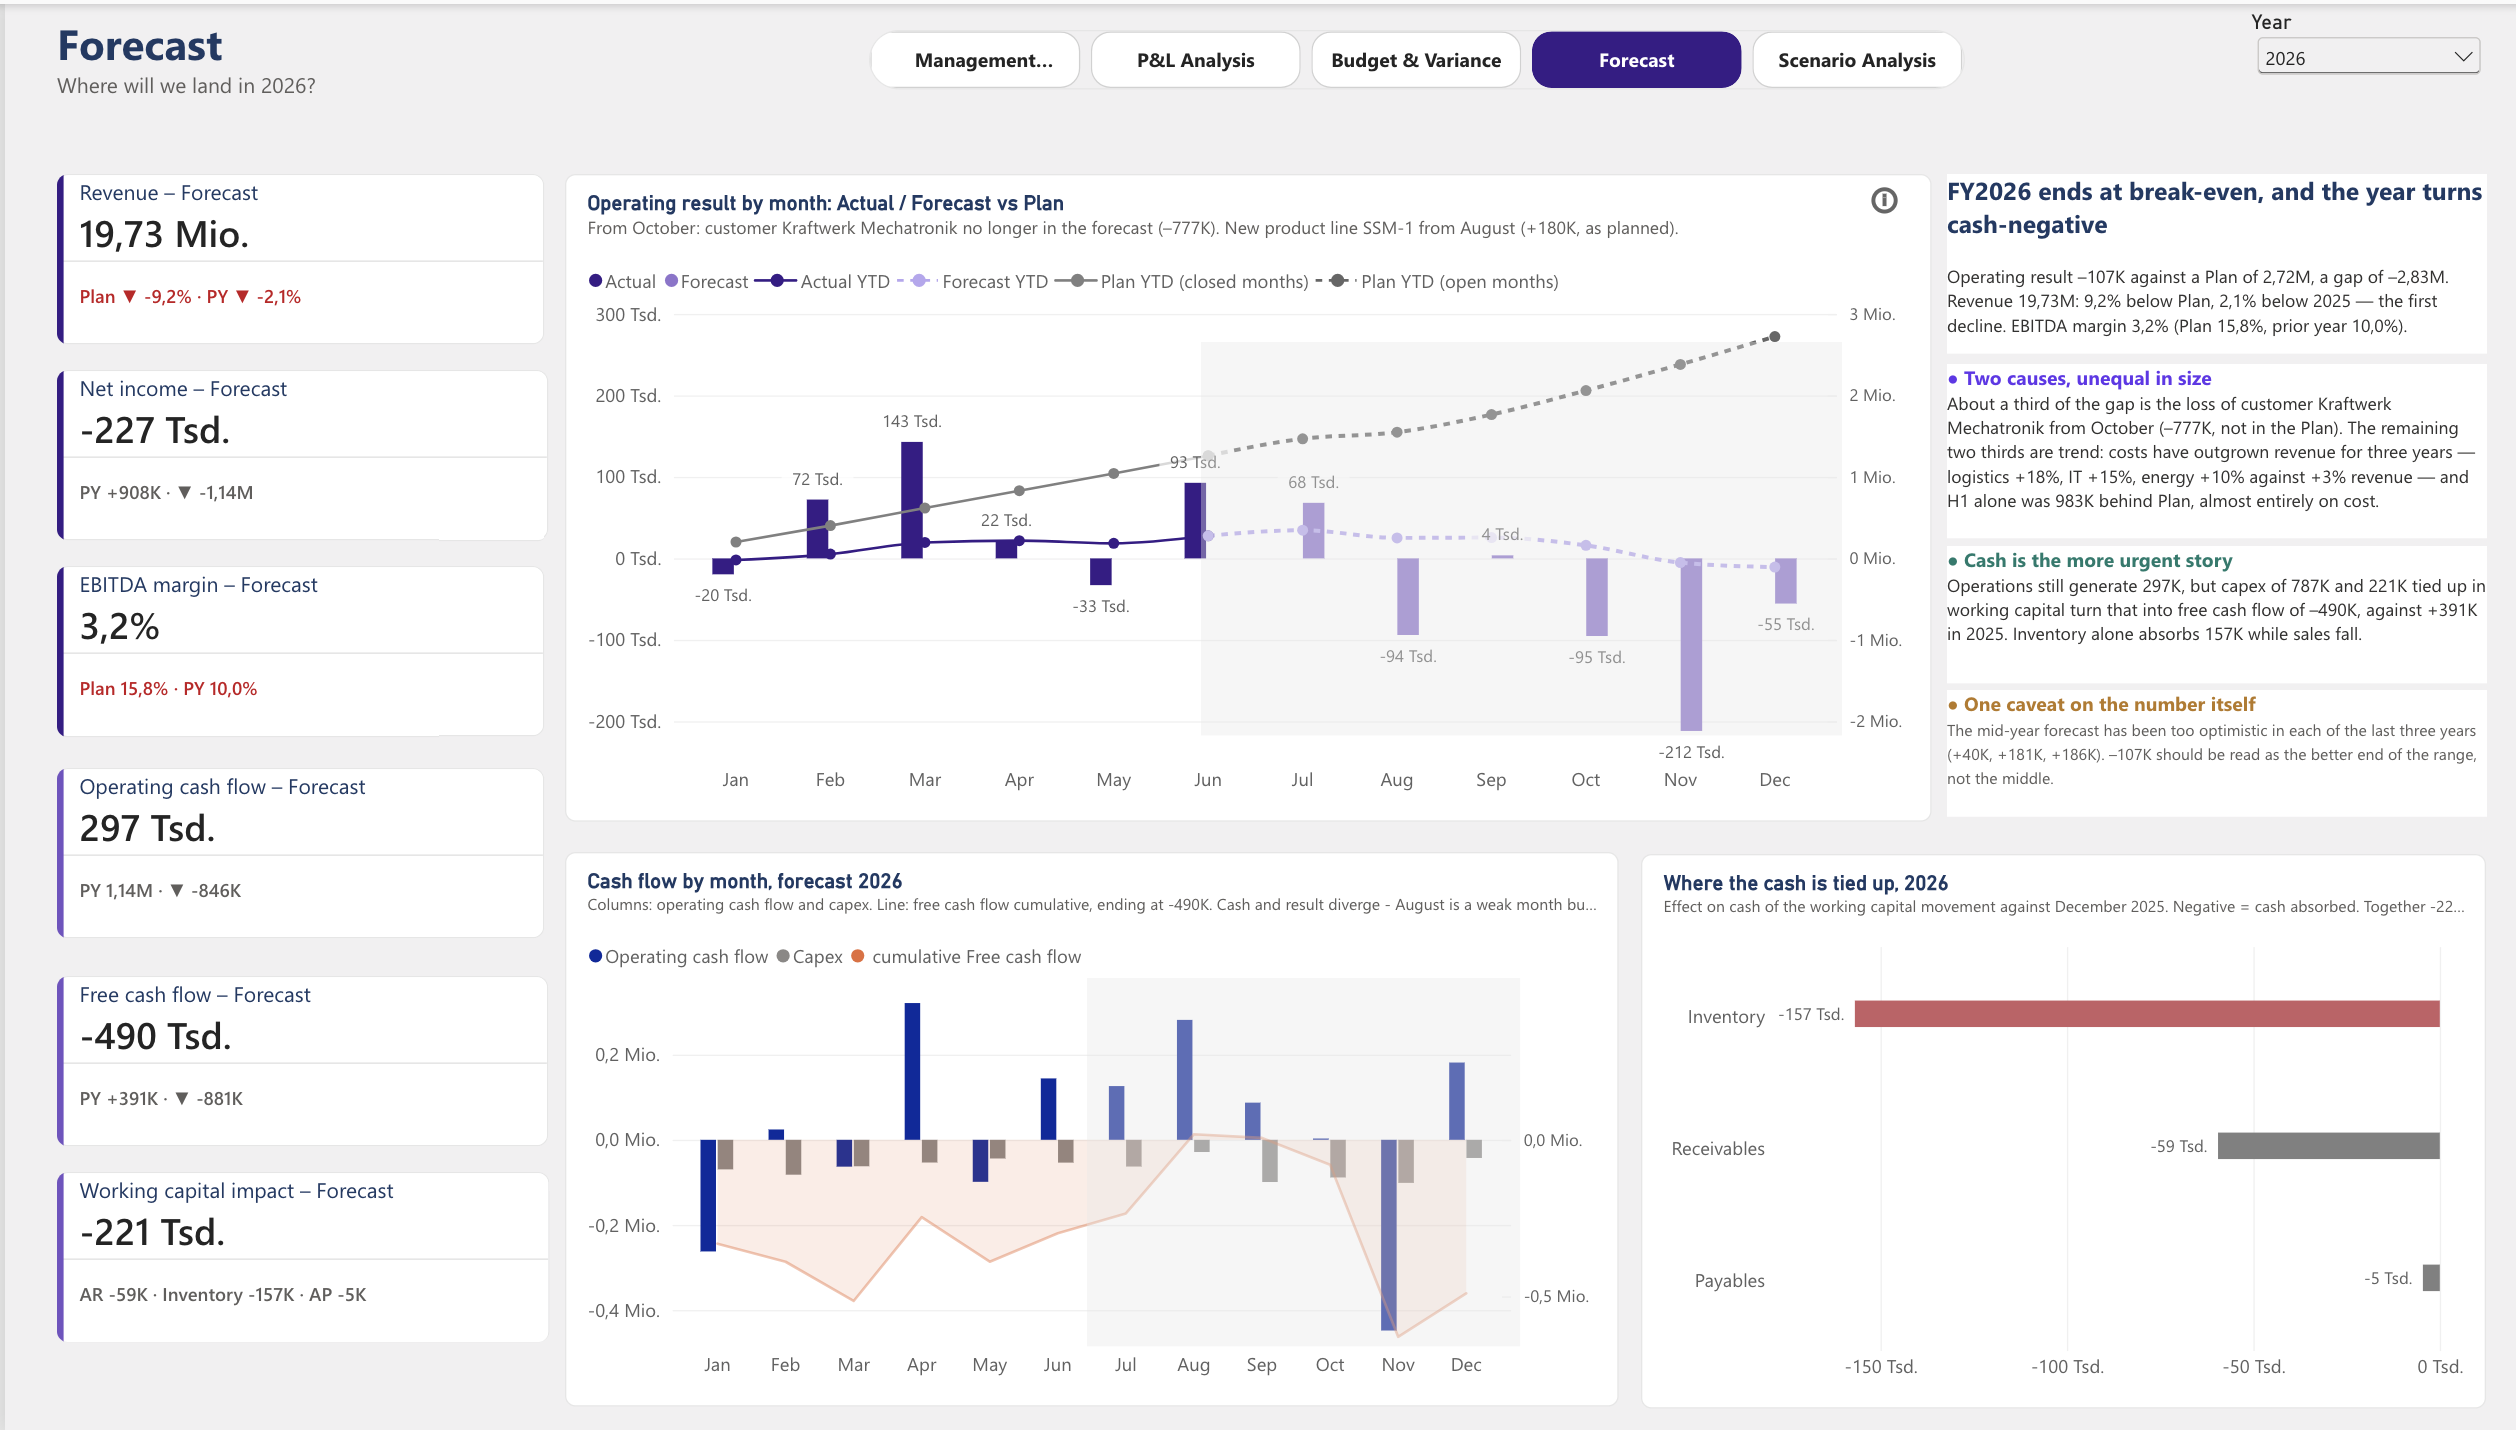

Layout of this report page (visuals, bound fields, positions):
{"tool":"powerbi","page":{"name":"Forecast","canvas":[1920,1080],"ordinal":3},"visuals":[{"type":"group","id":"g1","title":"Group 1","box":[423.5,128.5,1034.8,490.4],"z":0,"group":"g2"},{"type":"lineClusteredColumnComboChart","title":"Operating result by month: Actual / Forecast vs Plan","fields":{"Category":["dim_date.month_short"],"Y":["_Measures.Actual","_Measures.Forecast (open months)"],"Y2":["_Measures.Actual YTD (closed months)","_Measures.Forecast YTD (open months)","_Measures.Plan YTD (closed months)","_Measures.Plan YTD (open months)"]},"box":[423.5,128.5,1034.8,490.4],"z":0,"group":"g1"},{"type":"cardVisual","fields":{"Data":["_Measures.Operating Cash Flow Forecast"]},"box":[39.8,579.2,369.2,129.1],"z":0},{"type":"actionButton","box":[1386.5,128.5,72.1,40],"z":1000,"group":"g2"},{"type":"cardVisual","fields":{"Data":["_Measures.Net Income Forecast"]},"box":[39.8,276.9,372.8,129.1],"z":1000},{"type":"cardVisual","fields":{"Data":["_Measures.Working Capital Impact Forecast"]},"box":[40,885,373,129],"z":2000},{"type":"textbox","box":[40,8,600,72],"z":3000},{"type":"cardVisual","fields":{"Data":["_Measures.Free Cash Flow Forecast"]},"box":[39.8,736.7,372.8,129.1],"z":4000},{"type":"textbox","box":[1471,128,409,136],"z":5000},{"type":"textbox","box":[1471,272,409,132],"z":6000},{"type":"textbox","box":[1471,410,409,104],"z":7000},{"type":"textbox","box":[1471,520,409,96],"z":8000},{"type":"cardVisual","fields":{"Data":["_Measures.Revenue Forecast"]},"box":[40,129,369.2,129.1],"z":9000},{"type":"shape","box":[905.2,256,485.5,298.1],"z":9500,"group":"g1"},{"type":"lineClusteredColumnComboChart","title":"Cash flow by month, forecast 2026","fields":{"Category":["dim_date.month_short"],"Y":["_Measures.Operating Cash Flow Forecast","_Measures.Capex Forecast (outflow)"],"Y2":["_Measures.Free Cash Flow Forecast YTD"]},"box":[423.5,642.4,798.1,419.8],"z":10000},{"type":"cardVisual","fields":{"Data":["_Measures.EBITDA Margin % Forecast"]},"box":[39.8,425.3,369.2,129.1],"z":11000},{"type":"barChart","title":"Where the cash is tied up, 2026","fields":{"Category":["WC_Components.Component"],"Y":["_Measures.Working Capital Impact Component"]},"box":[1239.6,644.2,640,420],"z":12000},{"type":"slicer","title":"Year","fields":{"Values":["dim_date.year"]},"box":[1701.1,5.4,179.2,50.7],"z":13000},{"type":"pageNavigator","box":[655,19,830,45],"z":14000},{"type":"group","id":"g2","title":"Group 2","box":[423.5,128.5,1035.1,490.4],"z":15000},{"type":"shape","box":[819,737,328,279],"z":16000}]}

Visuals, with their boxes in screenshot pixels (x1, y1, x2, y2), scaled from the page's 1920x1080 canvas onto the 2516x1432 screenshot:
"Group 1" group: [left=555, top=170, right=1911, bottom=821]
"Operating result by month: Actual / Forecast vs Plan" lineClusteredColumnComboChart: [left=555, top=170, right=1911, bottom=821]
cardVisual - _Measures.Operating Cash Flow Forecast: [left=52, top=768, right=536, bottom=939]
actionButton: [left=1817, top=170, right=1911, bottom=223]
cardVisual - _Measures.Net Income Forecast: [left=52, top=367, right=541, bottom=538]
cardVisual - _Measures.Working Capital Impact Forecast: [left=52, top=1173, right=541, bottom=1344]
textbox: [left=52, top=11, right=839, bottom=106]
cardVisual - _Measures.Free Cash Flow Forecast: [left=52, top=977, right=541, bottom=1148]
textbox: [left=1928, top=170, right=2464, bottom=350]
textbox: [left=1928, top=361, right=2464, bottom=536]
textbox: [left=1928, top=544, right=2464, bottom=682]
textbox: [left=1928, top=689, right=2464, bottom=817]
cardVisual - _Measures.Revenue Forecast: [left=52, top=171, right=536, bottom=342]
shape: [left=1186, top=339, right=1822, bottom=735]
"Cash flow by month, forecast 2026" lineClusteredColumnComboChart: [left=555, top=852, right=1601, bottom=1408]
cardVisual - _Measures.EBITDA Margin % Forecast: [left=52, top=564, right=536, bottom=735]
"Where the cash is tied up, 2026" barChart: [left=1624, top=854, right=2463, bottom=1411]
"Year" slicer: [left=2229, top=7, right=2464, bottom=74]
pageNavigator: [left=858, top=25, right=1946, bottom=85]
"Group 2" group: [left=555, top=170, right=1911, bottom=821]
shape: [left=1073, top=977, right=1503, bottom=1347]
